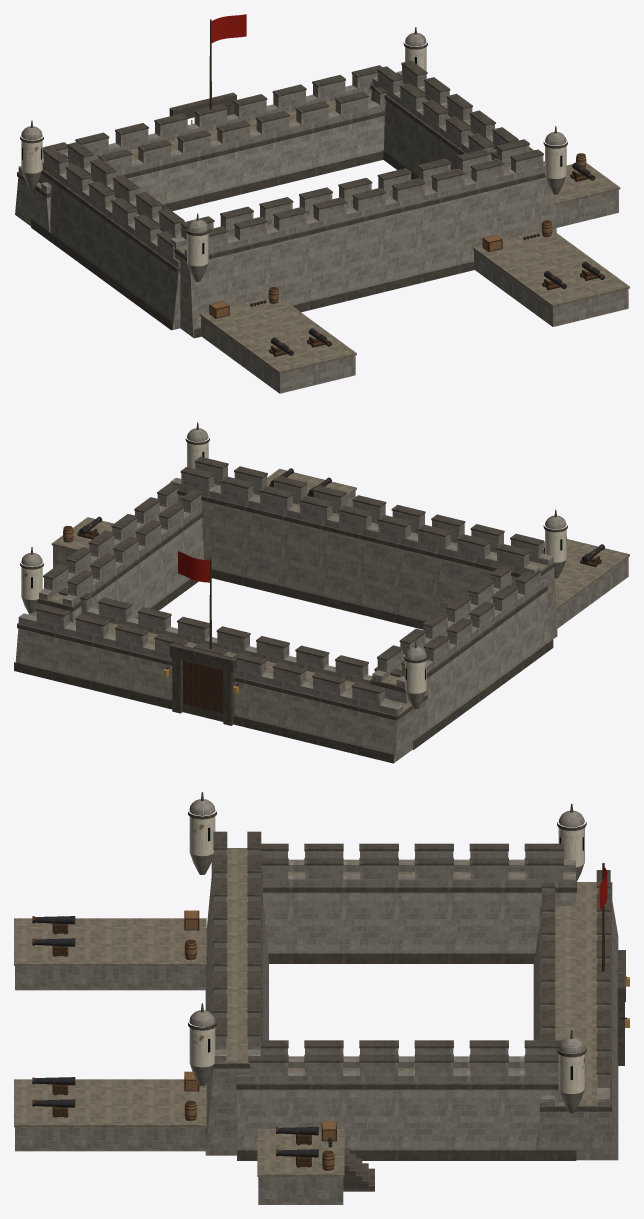
Rendered from SM_Art_SaltAndIronBlockade.gltf.
3 renders of one model, top to bottom at view 1: azimuth 30°, elevation 25°; view 2: azimuth 150°, elevation 25°; view 3: azimuth 270°, elevation 25°, orthographic. The views are drawn at different scales.
Visible parts, largest first — view 1: SM_Art_SaltAndIronBlockade; view 2: SM_Art_SaltAndIronBlockade; view 3: SM_Art_SaltAndIronBlockade.
Part boxes in pixels (<box>): SM_Art_SaltAndIronBlockade: <box>15,14,629,393</box>; SM_Art_SaltAndIronBlockade: <box>14,422,629,763</box>; SM_Art_SaltAndIronBlockade: <box>14,792,629,1204</box>.
Bounding box in the file's own units: 30.88 × 9.65 × 29.1.
10 materials, 8 textured.
